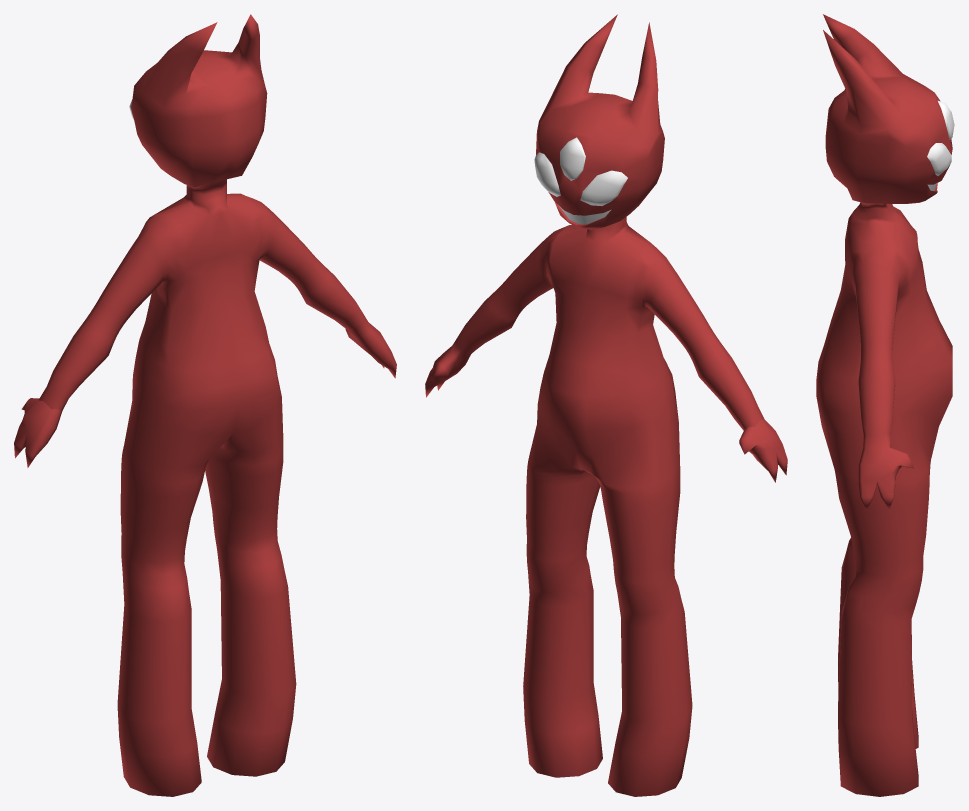
The model's file is Imp(noUV).fbx.
3 renders of one model, left to right at view 1: azimuth 30°, elevation 25°; view 2: azimuth 150°, elevation 25°; view 3: azimuth 270°, elevation 25°, orthographic. The views are drawn at different scales.
Parts seen in each view (by area): view 1: pCube8; view 2: pCube8; view 3: pCube8.
Boxes of the visible parts, x1,y1,x2,y2 form: pCube8: (14,14,396,796); pCube8: (425,14,787,796); pCube8: (816,14,954,796).
Bounding box in the file's own units: 11.16 × 22.33 × 3.78.
